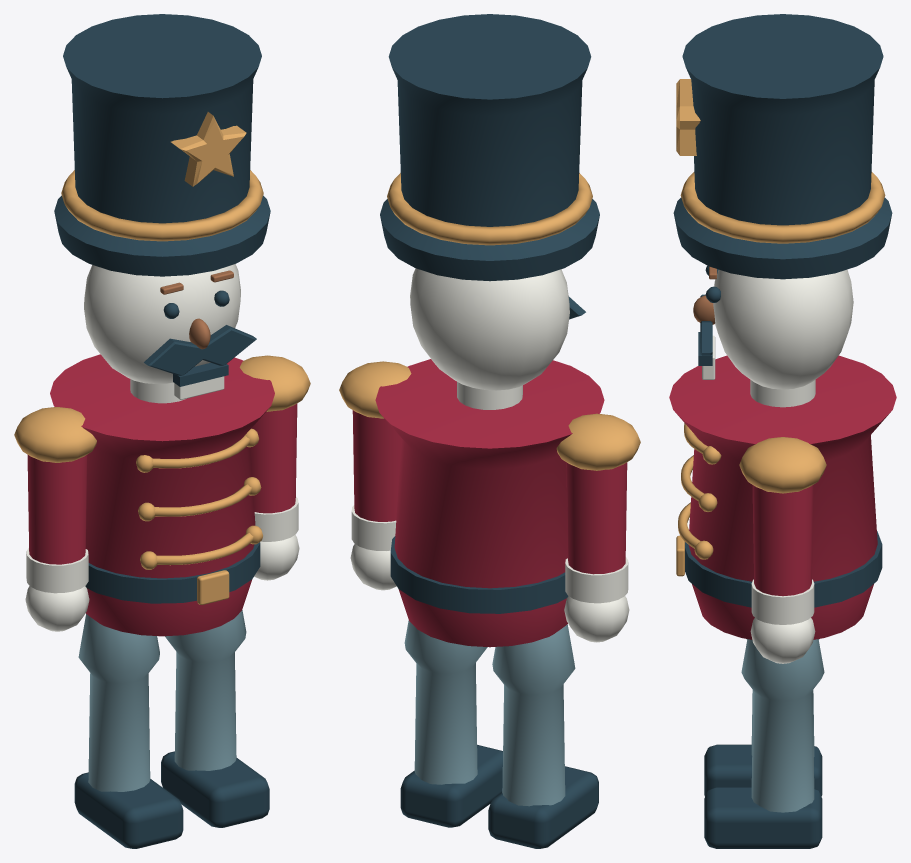
The model's file is storybook-christmas-market-heirloom-nutcracker-7e2d7462__19731.glb.
3 views of the same model, side by side, from view 1: azimuth 30°, elevation 25°; view 2: azimuth 150°, elevation 25°; view 3: azimuth 270°, elevation 25° (orthographic).
Parts seen in each view (by area): view 1: heirloom-nutcracker; view 2: heirloom-nutcracker; view 3: heirloom-nutcracker.
Boxes of the visible parts, left/top/right/bottom form: heirloom-nutcracker: left=14, top=14, right=310, bottom=848; heirloom-nutcracker: left=339, top=14, right=640, bottom=848; heirloom-nutcracker: left=669, top=14, right=896, bottom=848.
Size of the model in its own units: 0.76 by 1.92 by 0.52.
